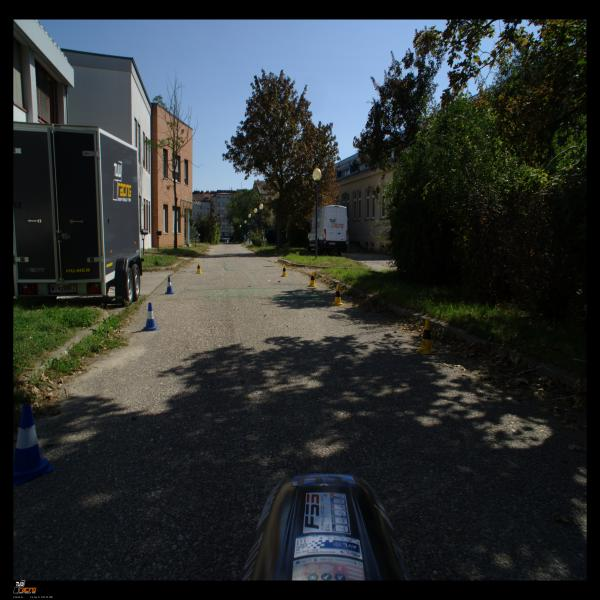blue_cone: (14, 404, 56, 484), (141, 303, 160, 331), (164, 276, 174, 295)
yellow_cone: (416, 318, 436, 354), (332, 285, 344, 306), (308, 272, 316, 288), (280, 264, 288, 277), (195, 262, 202, 274)
